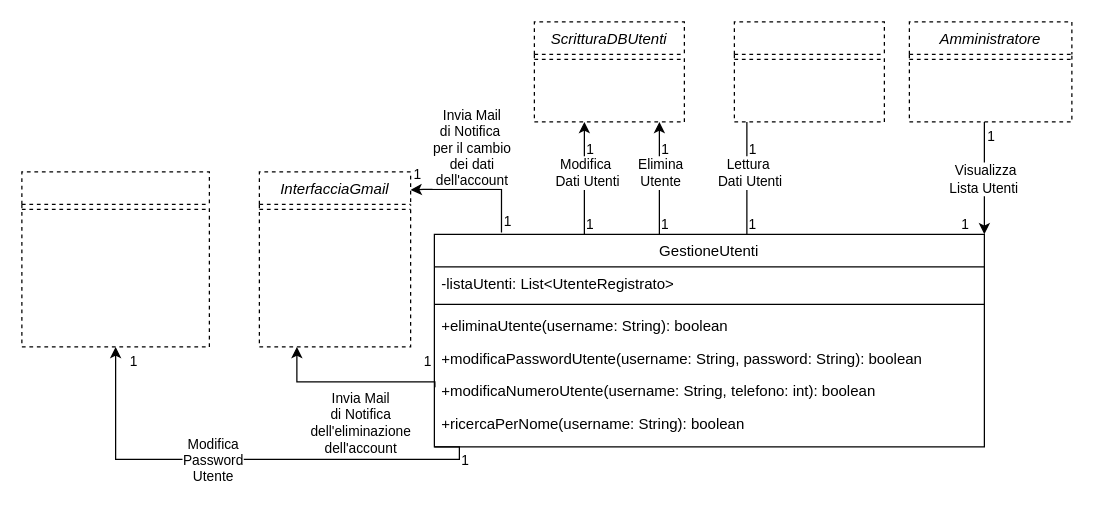
Image size: 1094x506. Some labels were removed from this diagram. Each missing label, with the centre of its shape:
"GestoreAutenticazione" belongs at point (115, 259).
"LetturaDBUtenti" belongs at point (808, 71).
